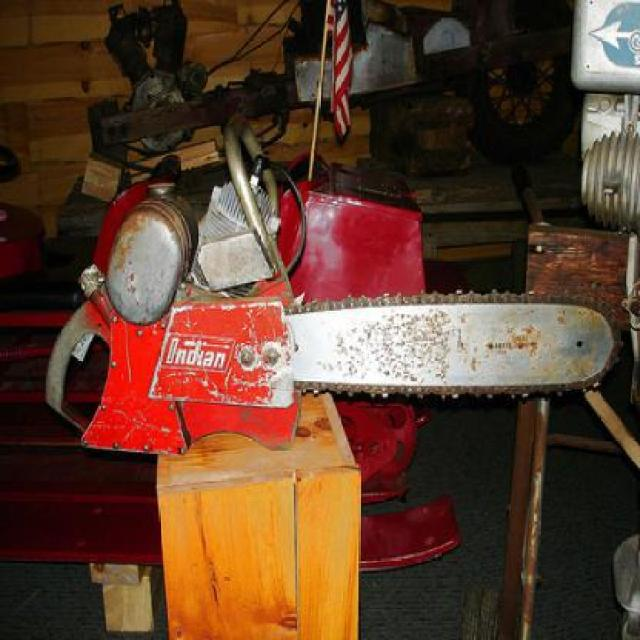Chainsaw: (45, 111, 624, 457)
